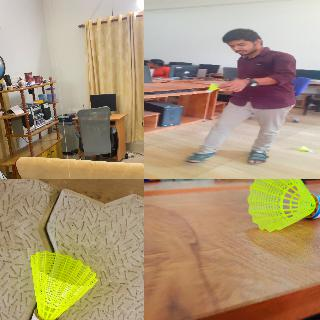shuttlecock: (30, 250, 98, 319), (246, 179, 319, 231), (206, 83, 221, 92)
